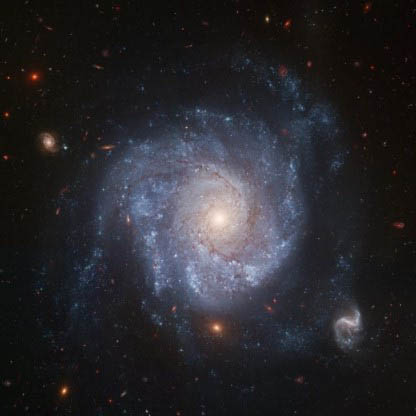NGC 1309: (31, 74, 370, 356)
